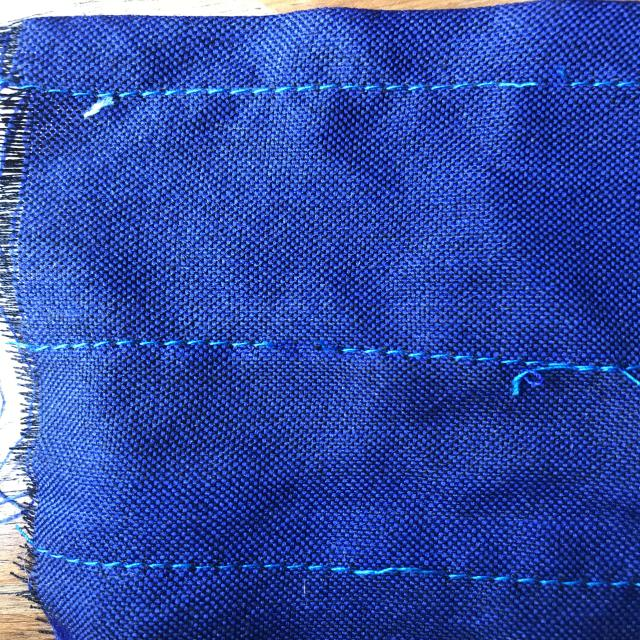broken: (240, 317, 394, 383)
